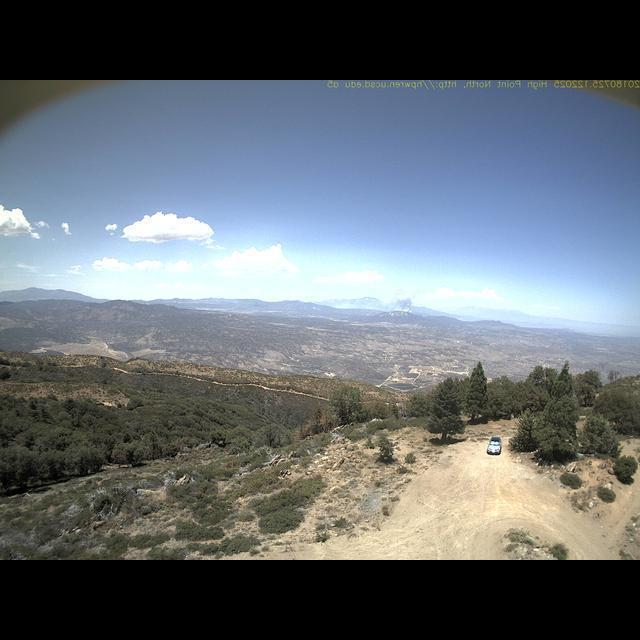Smoke: (385, 295, 418, 317)
